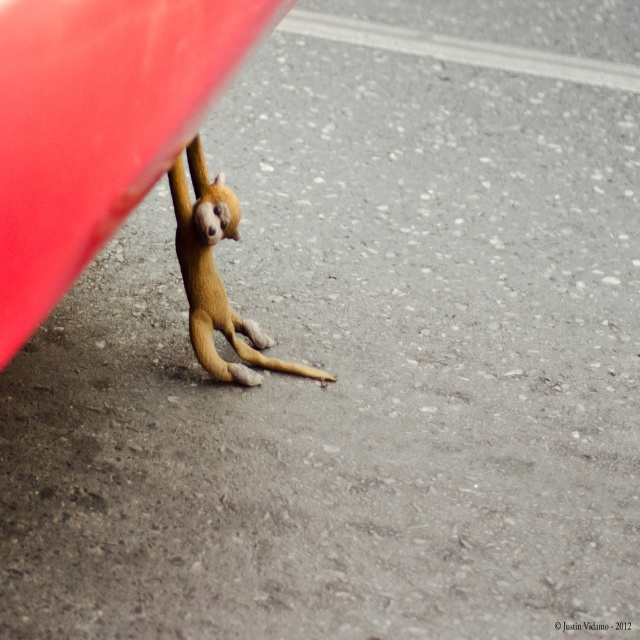Monkey: (158, 157, 332, 395)
